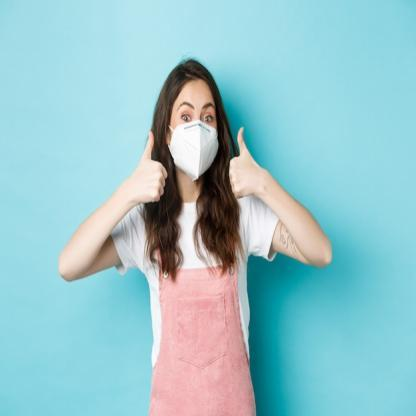thumb_up: (136, 126, 172, 212), (226, 122, 262, 208)
